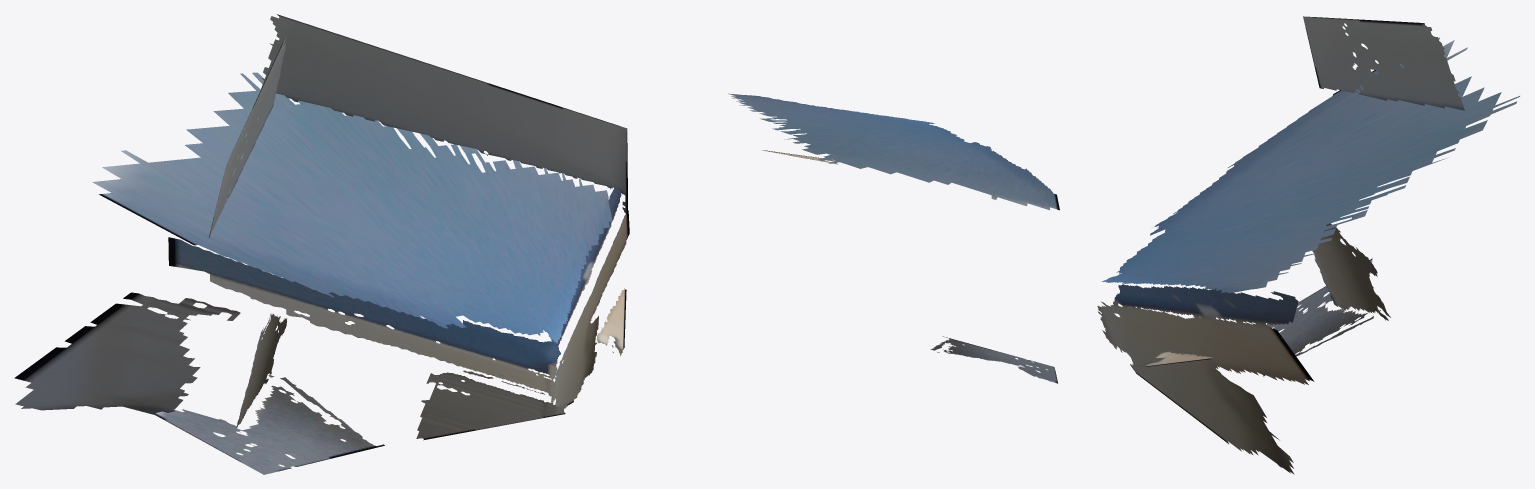
Rendered from 576_d2_depth_GTplane_gt_model.glb.
The picture shows the model from 3 angles, left to right: view 1: azimuth 30°, elevation 25°; view 2: azimuth 150°, elevation 25°; view 3: azimuth 270°, elevation 25°; orthographic projection. The views are drawn at different scales.
Size of the model in its own units: 3.37 by 2.27 by 2.46.
